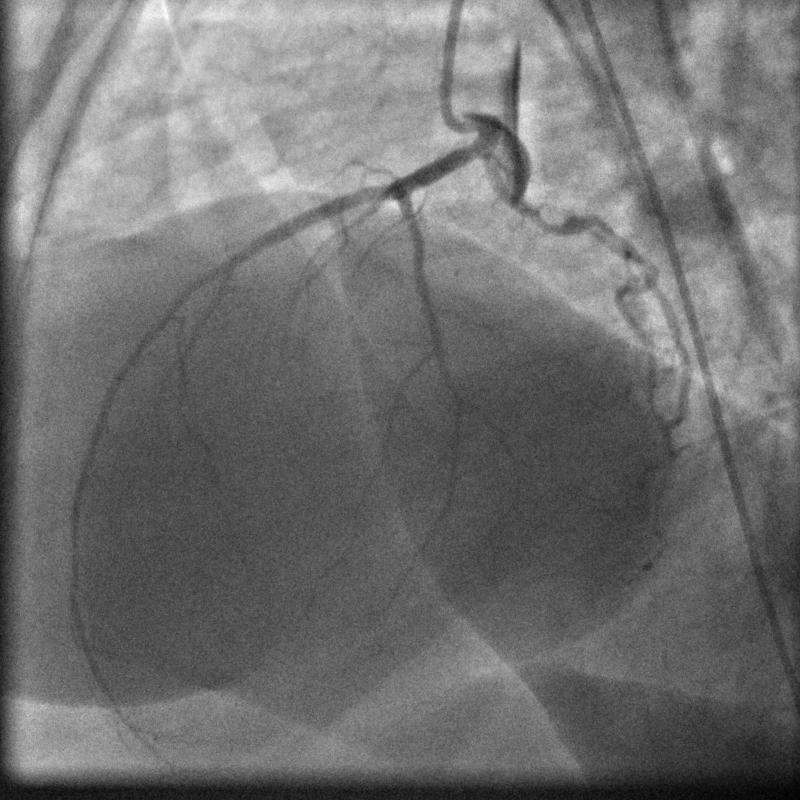Stenosis: (530, 197, 579, 241)
